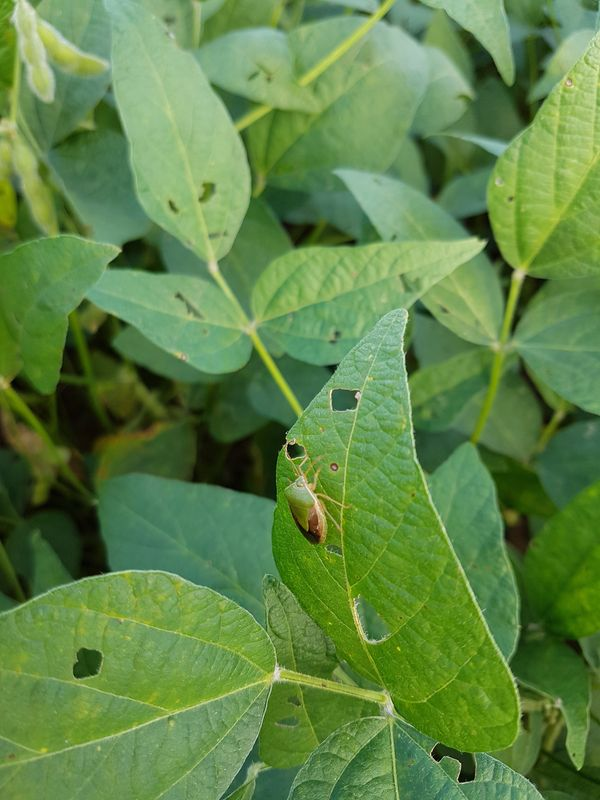Edessa_meditabunda: (263, 455, 351, 551)
